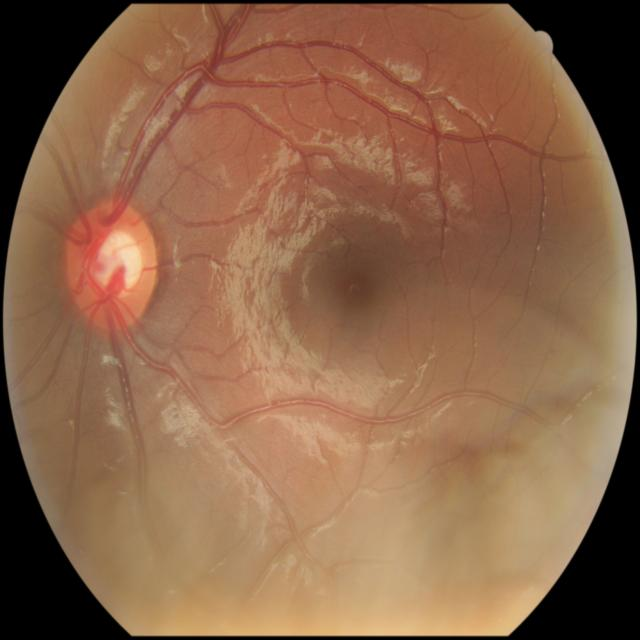OC: (91, 230, 142, 296)
OD: (65, 202, 159, 330)
